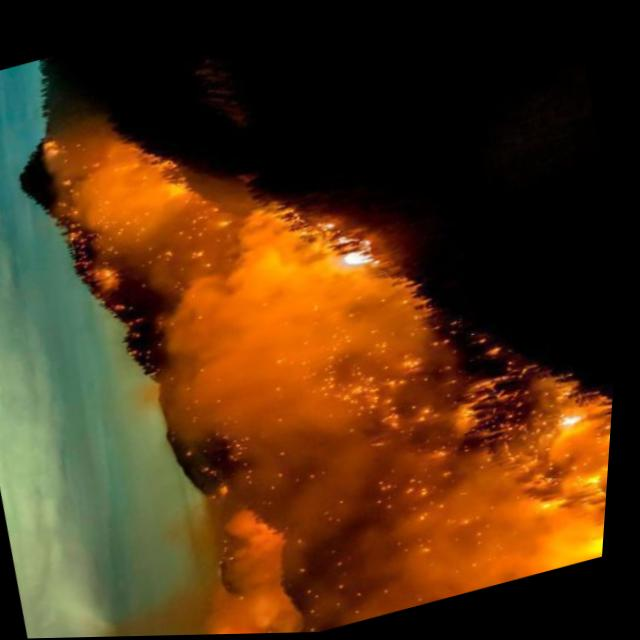Fire: (117, 194, 389, 522), (29, 94, 284, 384), (220, 466, 505, 636), (471, 354, 621, 583), (346, 292, 487, 481), (327, 212, 416, 302)
